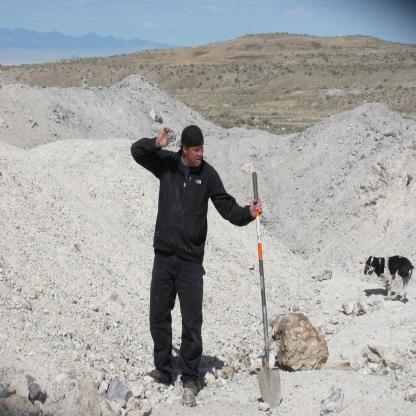person: (126, 97, 255, 379)
